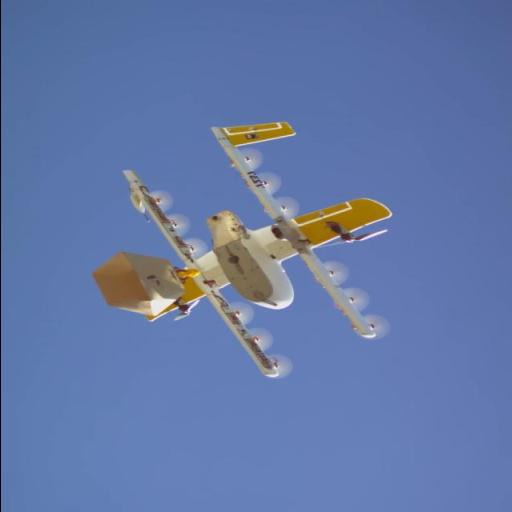uav: (91, 114, 403, 378)
